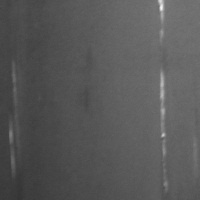inclusion: (79, 84, 95, 117)
scratches: (6, 61, 23, 181), (157, 68, 173, 188), (155, 1, 169, 43)
